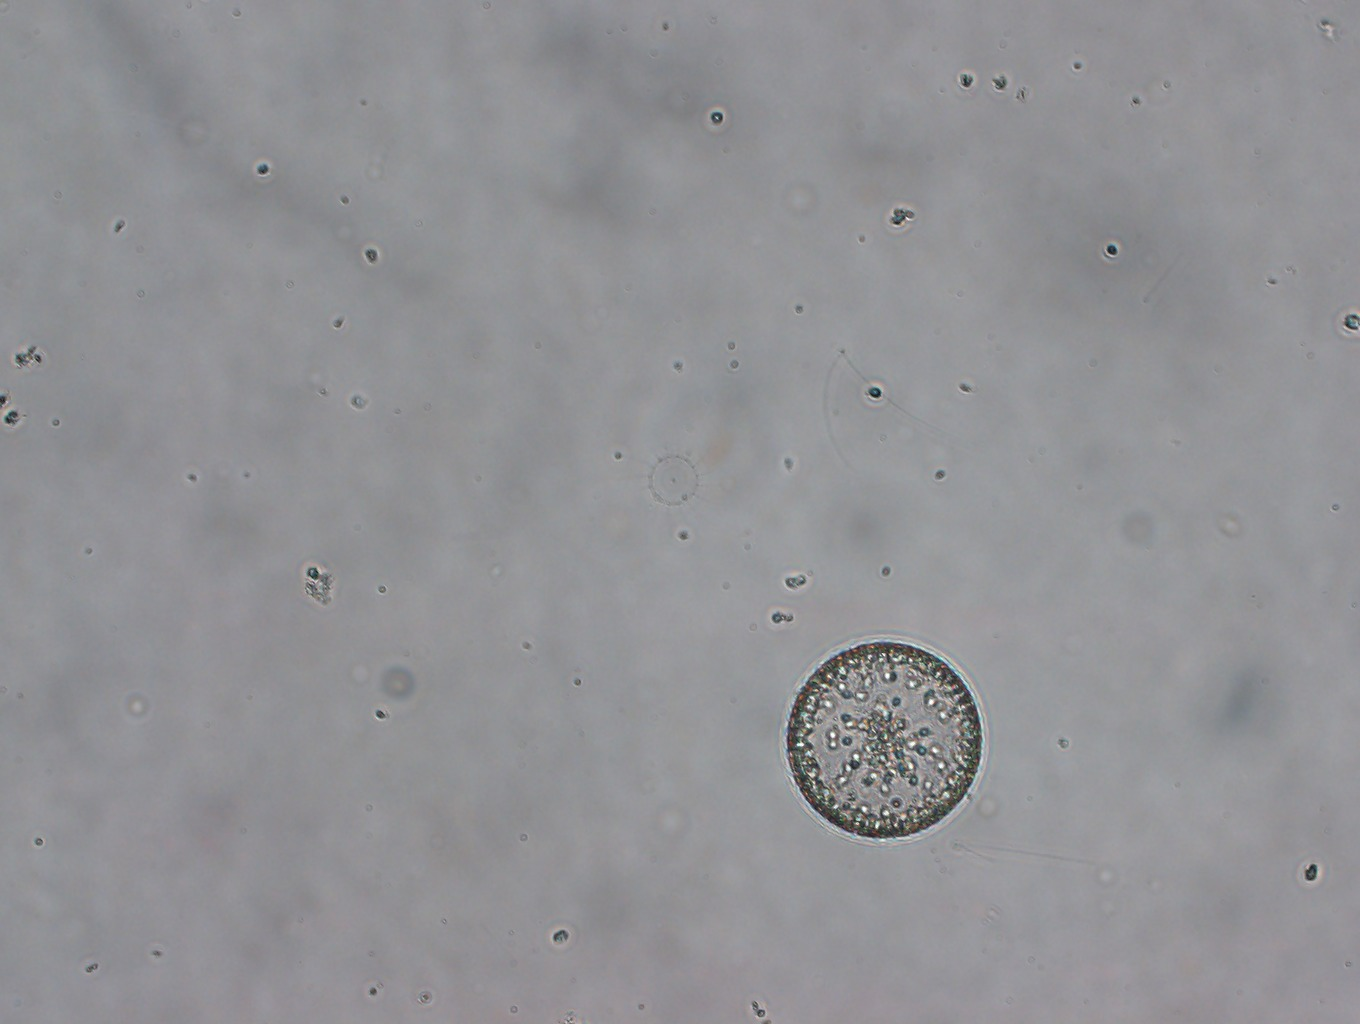coscinodiscus: (784, 639, 982, 842)
